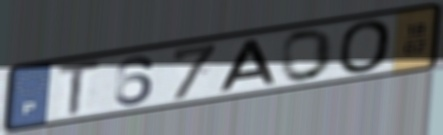6: (113, 54, 156, 107)
7: (170, 42, 220, 102)
A: (217, 38, 280, 93)
O: (337, 18, 394, 76), (281, 27, 335, 84)
T: (56, 57, 104, 119)
